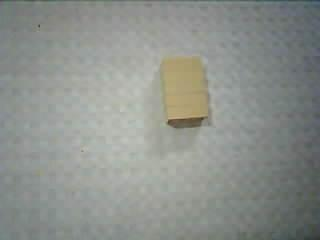lego: (159, 55, 210, 126)
